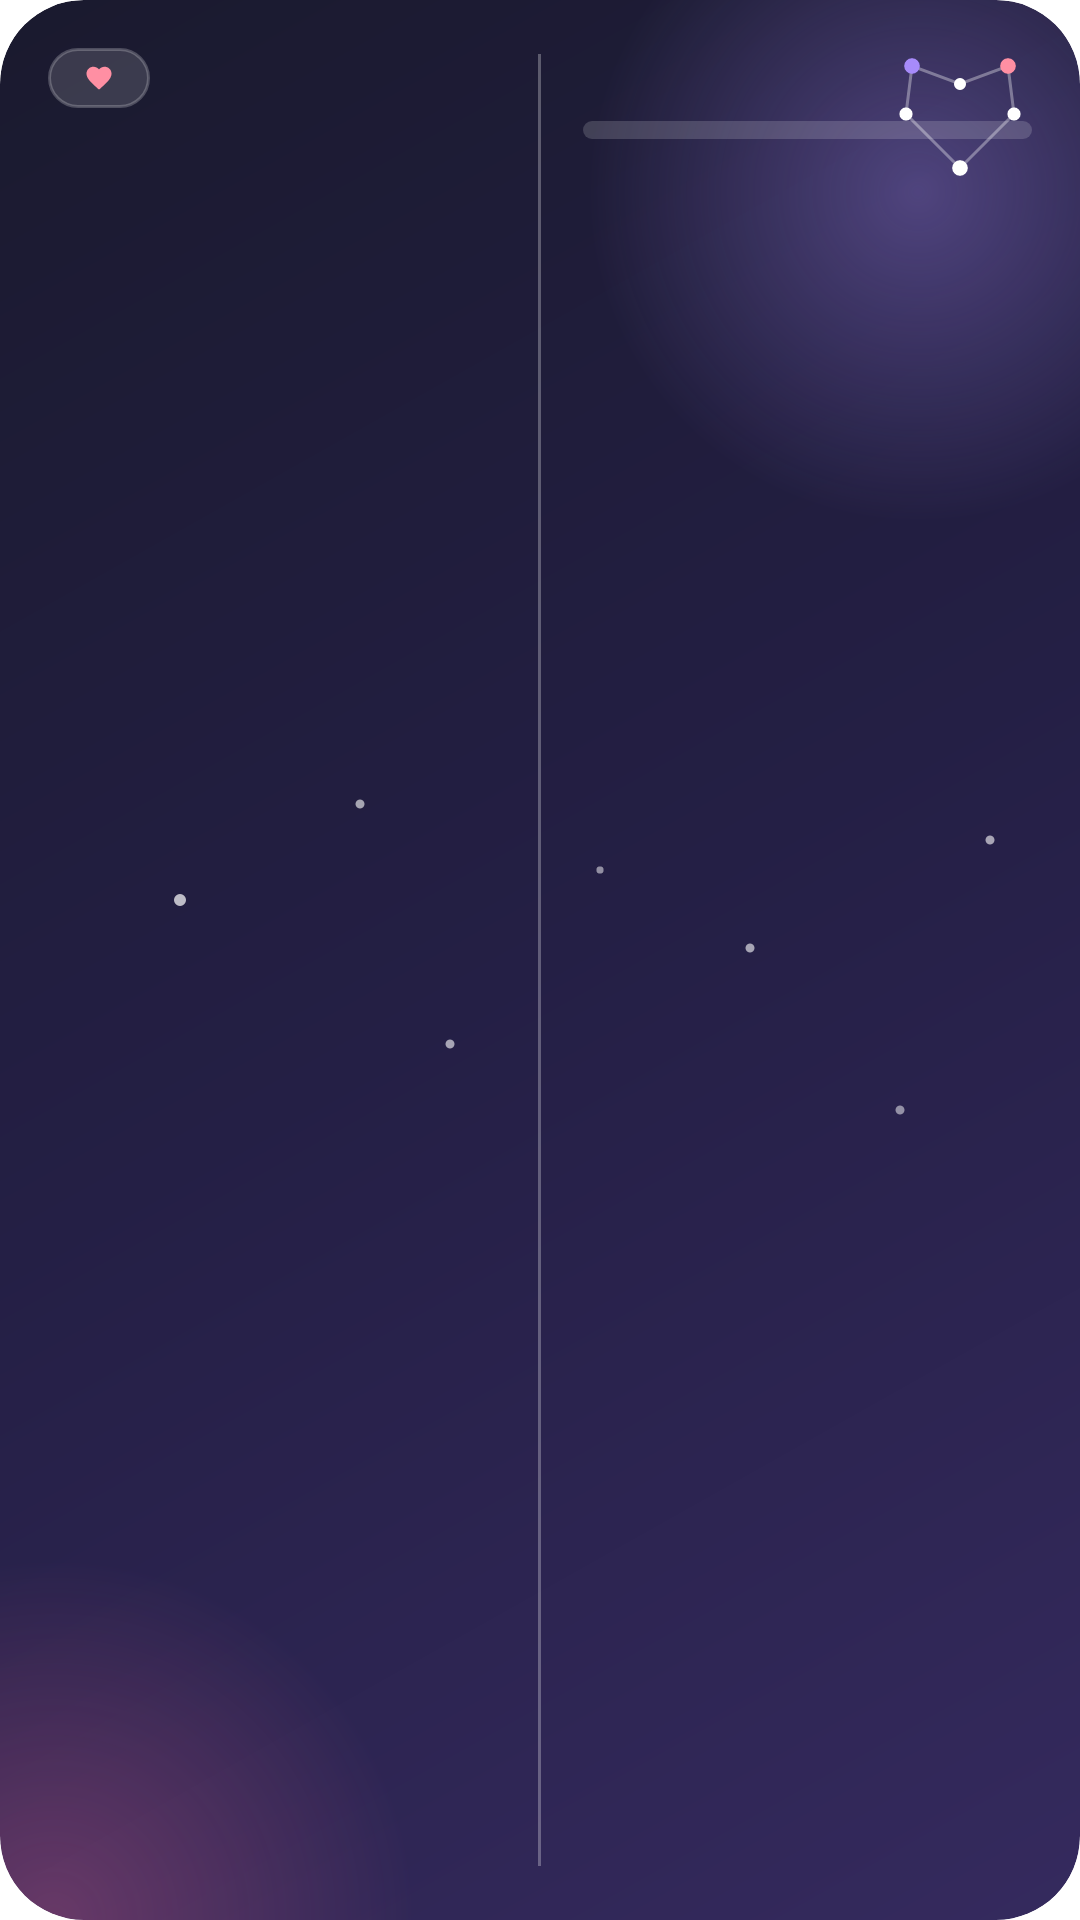

Icon bounding boxes for this 1080 × 1920 phone screenshot, format [left=x1, top=y1, right=x2, bottom=y2]:
widget constellation: [left=882, top=58, right=1032, bottom=180]
widget heart: [left=86, top=66, right=112, bottom=90]
